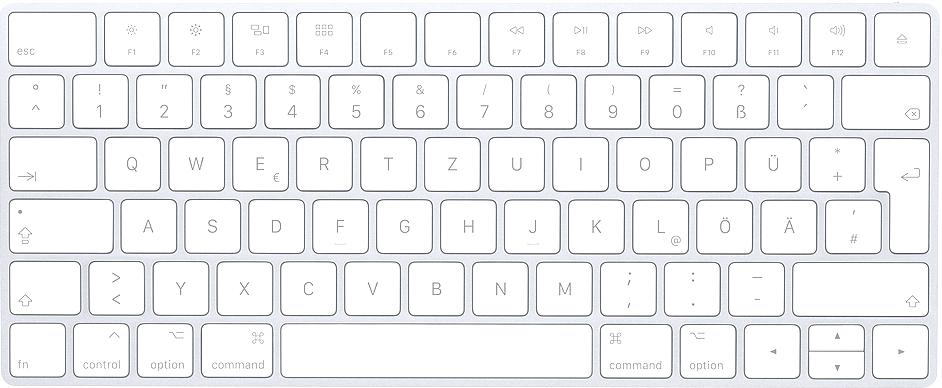0: (647, 71, 706, 129)
1: (70, 71, 129, 128)
2: (134, 71, 193, 128)
3: (198, 71, 257, 129)
4: (262, 71, 321, 128)
5: (326, 71, 385, 129)
6: (390, 72, 450, 129)
7: (453, 73, 514, 130)
8: (518, 71, 578, 128)
9: (582, 71, 642, 128)
a: (118, 196, 178, 253)
accent: (776, 72, 834, 129)
ae: (759, 197, 817, 254)
alt-left: (135, 320, 195, 378)
altgr-right: (676, 321, 737, 379)
b: (405, 258, 466, 315)
c: (278, 258, 337, 315)
caret: (6, 71, 64, 128)
comma: (598, 258, 657, 315)
d: (246, 196, 306, 253)
del: (840, 71, 930, 129)
e: (230, 134, 289, 191)
enter: (871, 133, 929, 253)
f: (310, 196, 369, 253)
g: (374, 196, 433, 253)
h: (438, 196, 496, 254)
hash: (823, 197, 881, 253)
i: (551, 136, 610, 193)
j: (502, 196, 560, 254)
k: (566, 196, 625, 254)
keyboard: (1, 1, 942, 388)
l: (630, 197, 690, 254)
less: (86, 259, 145, 314)
m: (533, 258, 593, 316)
minus: (725, 259, 785, 315)
n: (469, 258, 530, 316)
o: (614, 134, 673, 191)
oe: (694, 198, 753, 254)
p: (678, 134, 737, 191)
plus: (807, 134, 866, 191)
point: (662, 259, 721, 315)
q: (101, 134, 162, 191)
r: (294, 134, 353, 191)
s: (182, 196, 241, 253)
shift-left: (5, 257, 81, 315)
shift-lock: (7, 194, 113, 252)
shift-right: (789, 257, 928, 316)
space: (278, 322, 593, 378)
ss: (710, 72, 770, 128)
strg-left: (70, 320, 131, 378)
t: (359, 134, 416, 190)
tab: (6, 132, 97, 190)
u: (486, 134, 545, 191)
ue: (742, 133, 802, 191)
v: (342, 258, 402, 315)
w: (166, 133, 225, 191)
x: (214, 259, 273, 315)
y: (150, 259, 210, 315)
z: (421, 134, 481, 191)
